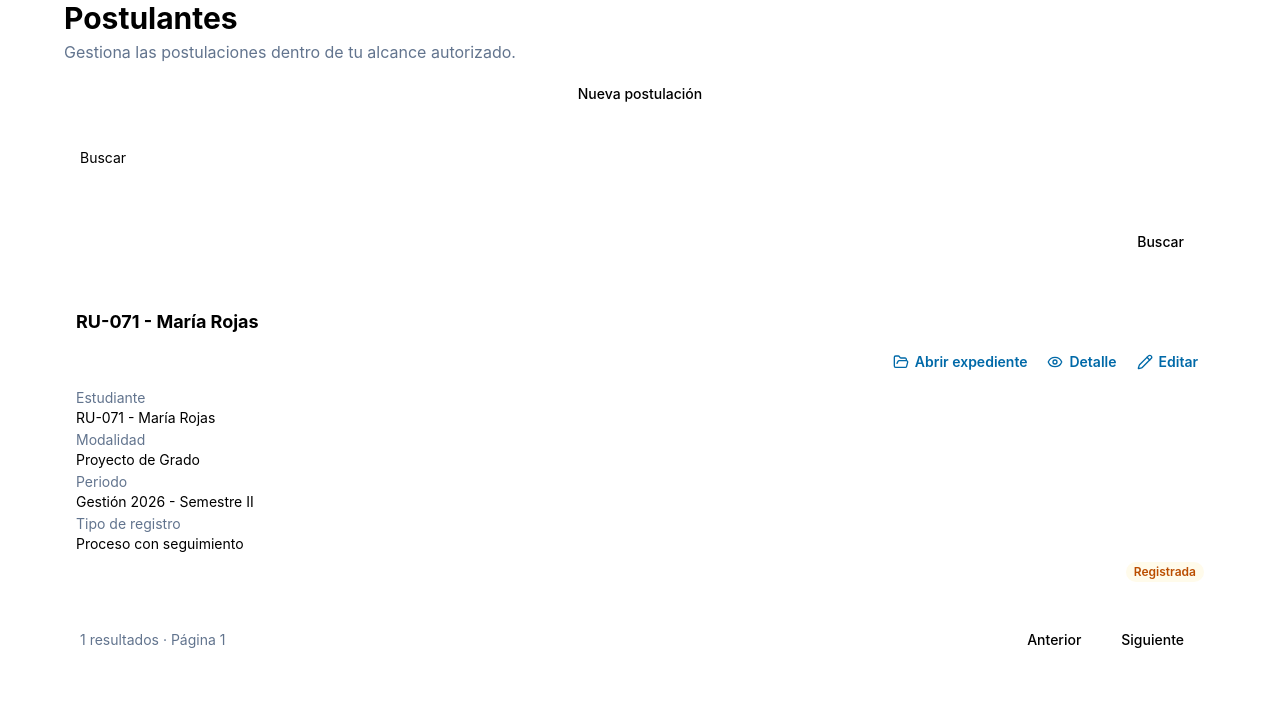
PostulantesPage US-007 › permite cancelar sin enviar cambios
Step 1. Click the button "Editar" → {"x": 1167, "y": 362}, box [1130,344,1204,380]
(page scrolled)
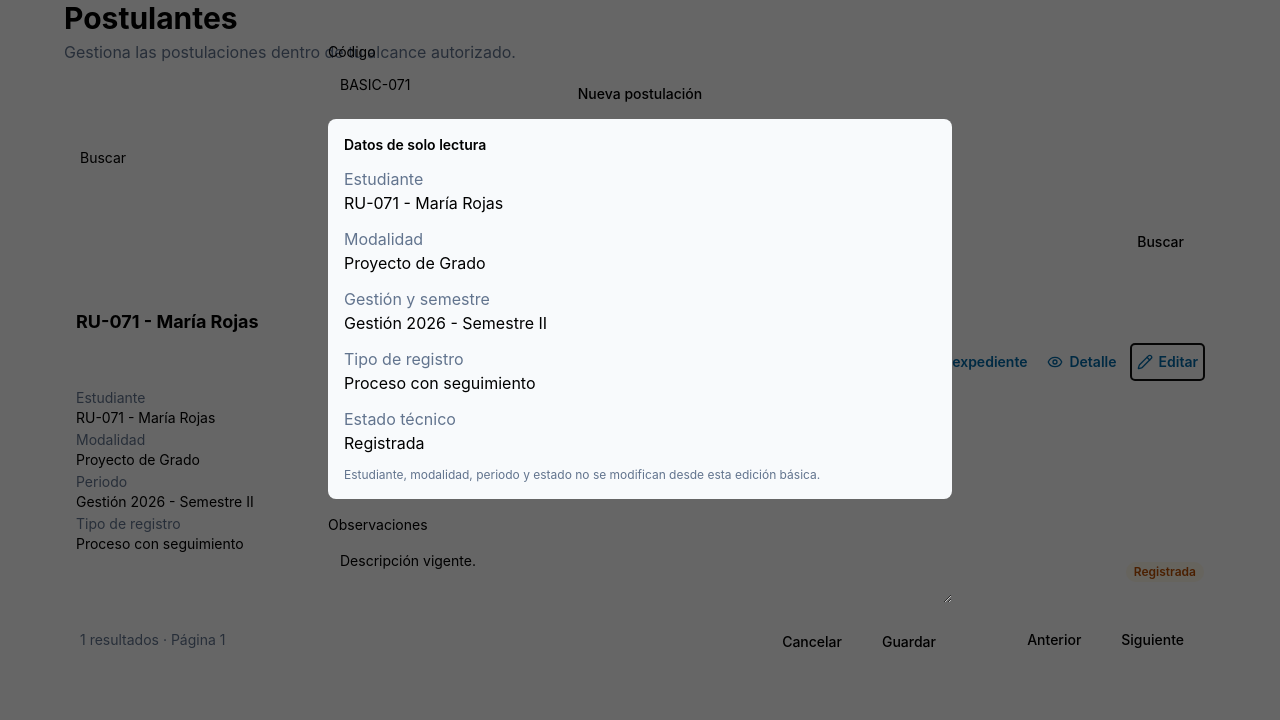
Step 2. Click the button "Cancelar" → {"x": 812, "y": 642}, box [766,624,858,660]
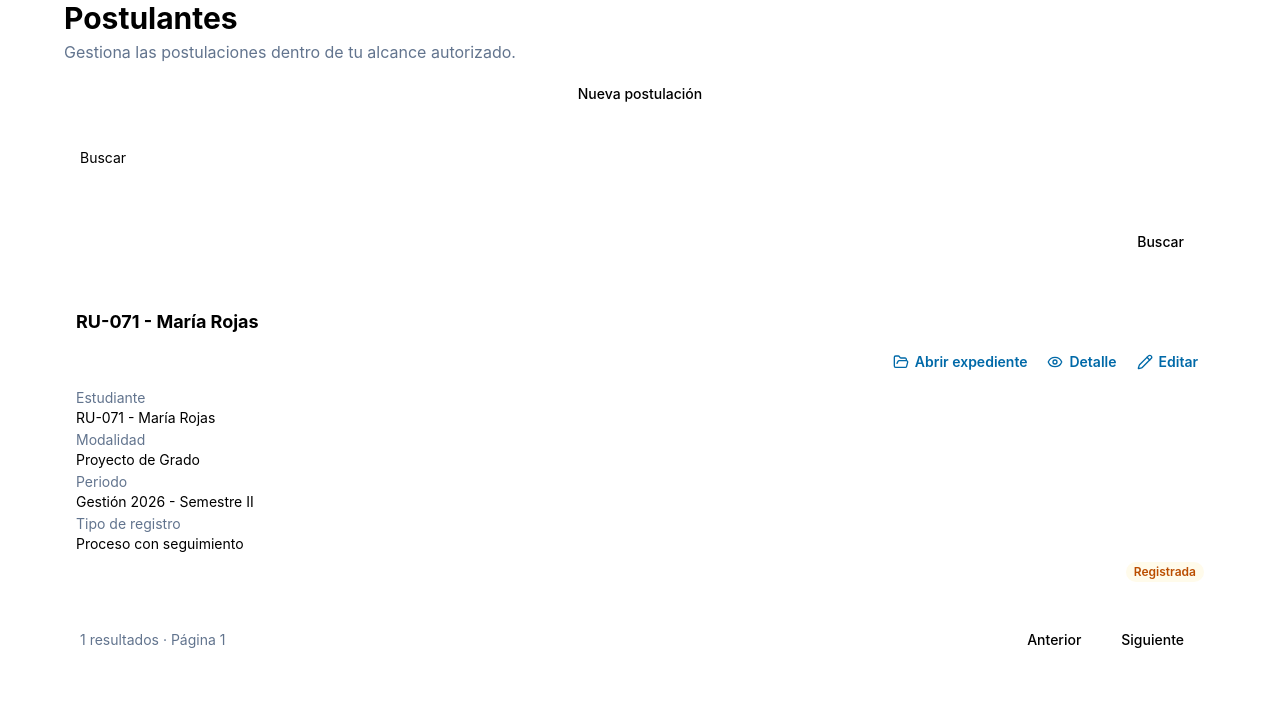
Expected: the dialog is gone
